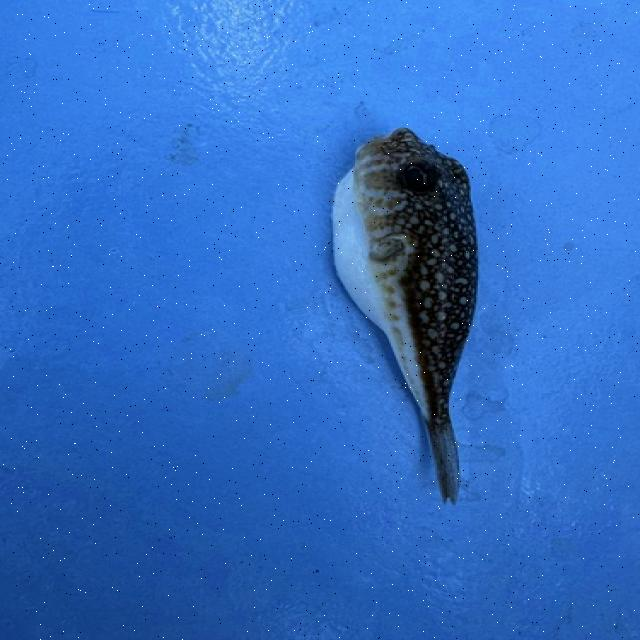Balik: (333, 128, 477, 503)
